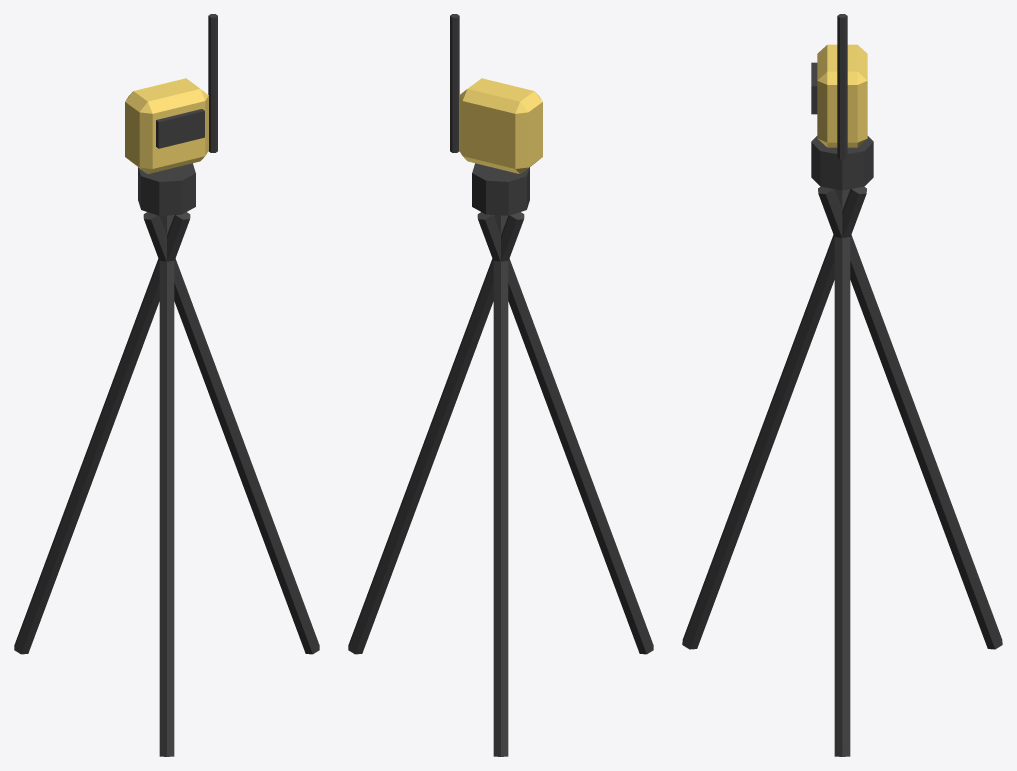
3 views of the same model, side by side, from view 1: azimuth 30°, elevation 25°; view 2: azimuth 150°, elevation 25°; view 3: azimuth 270°, elevation 25° (orthographic). The views are drawn at different scales.
Visible parts, largest first — view 1: Leg.002, Leg, Leg.001, Meter, Mount, Readout, Probe; view 2: Leg.001, Leg, Leg.002, Meter, Mount, Probe; view 3: Leg, Leg.001, Leg.002, Meter, Mount, Probe.
Boxes of the visible parts, x1,y1,x2,y2 form: Leg.002: (159,215,174,756); Leg: (143,212,319,654); Leg.001: (14,212,190,654); Meter: (125,78,208,173); Mount: (138,163,195,215); Readout: (156,109,204,148); Probe: (208,14,217,152); Leg.001: (493,215,508,756); Leg: (348,212,524,654); Leg.002: (477,212,653,654); Meter: (459,78,542,173); Mount: (472,163,529,215); Probe: (450,14,459,152); Leg: (834,189,850,756); Leg.001: (818,186,1002,649); Leg.002: (682,186,866,649); Meter: (817,44,867,147); Mount: (811,136,873,190); Probe: (837,14,847,159).
Size of the model in its own units: 0.5033 by 1.37 by 0.5725.
Materials: 1 (1 with a texture image).
